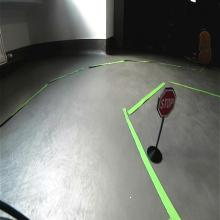stop: (156, 86, 176, 118)
